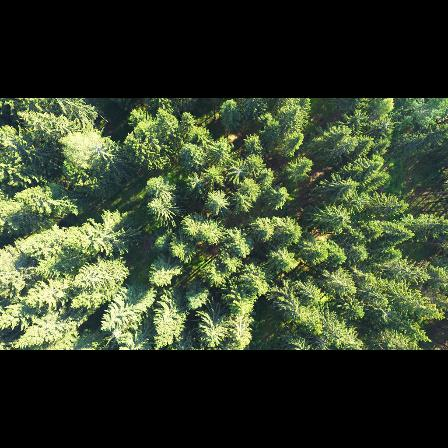Sick: (228, 160, 247, 182)
